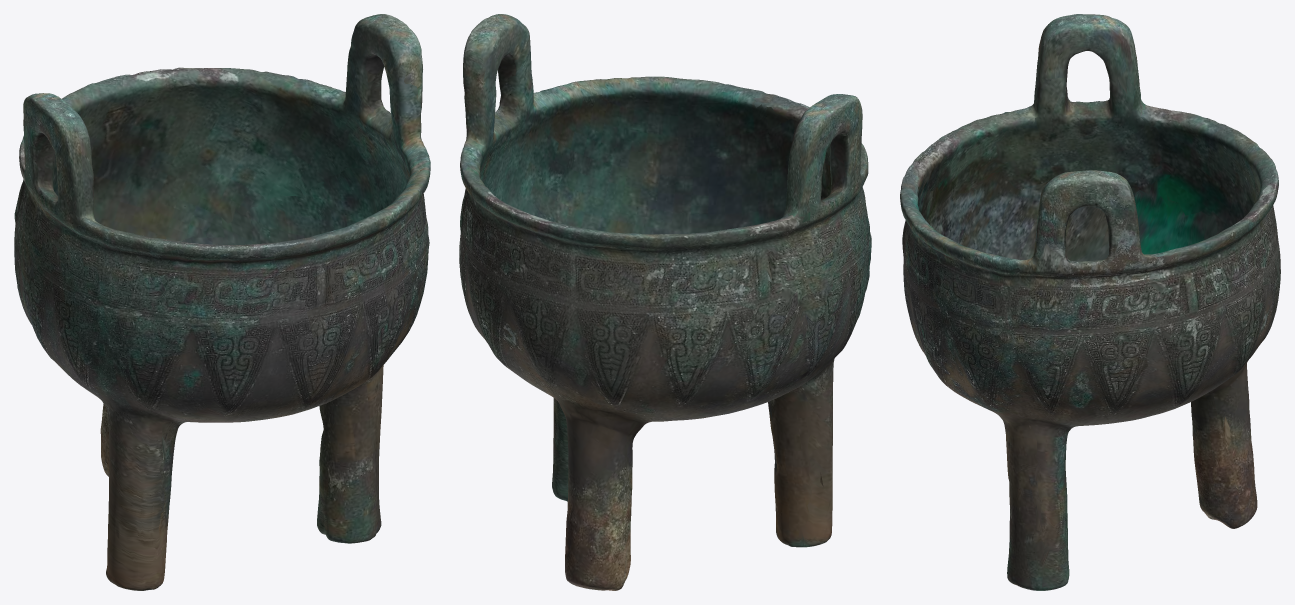
3 views of the same model, side by side, from view 1: azimuth 30°, elevation 25°; view 2: azimuth 150°, elevation 25°; view 3: azimuth 270°, elevation 25° (orthographic). The views are drawn at different scales.
Parts seen in each view (by area): view 1: Component14_001; view 2: Component14_001; view 3: Component14_001.
Part boxes in pixels (x1,y1,x2,y2): Component14_001: [14, 14, 430, 590]; Component14_001: [459, 14, 871, 590]; Component14_001: [900, 14, 1280, 590].
Size of the model in its own units: 406 by 509 by 397.
Materials: 1 (1 with a texture image).
